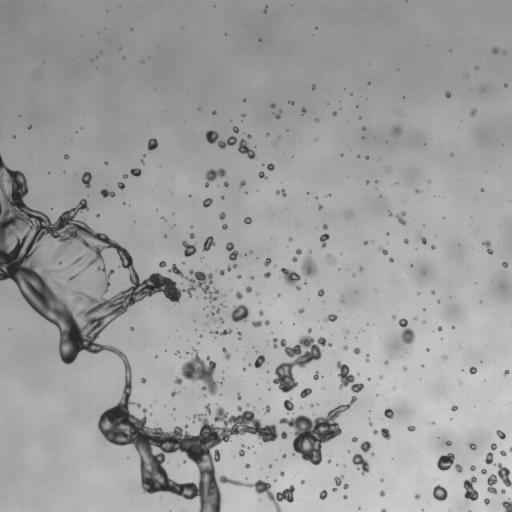droplet: (279, 395, 356, 465), (273, 329, 331, 392), (181, 348, 221, 394), (437, 453, 462, 472), (301, 255, 317, 278), (463, 476, 478, 500), (352, 453, 369, 474), (231, 304, 249, 322), (211, 303, 224, 323), (432, 485, 447, 501), (182, 241, 196, 256), (203, 236, 215, 251), (283, 398, 294, 413), (81, 172, 91, 187), (396, 211, 406, 225), (254, 355, 265, 367), (320, 233, 329, 247), (360, 441, 371, 452), (100, 189, 115, 197), (323, 314, 337, 322), (147, 138, 157, 149), (380, 428, 390, 439), (502, 499, 511, 511), (300, 388, 311, 397), (222, 347, 230, 359), (384, 408, 393, 418), (130, 168, 141, 176), (203, 198, 212, 207), (496, 430, 505, 439), (392, 126, 401, 134), (319, 490, 327, 499), (276, 189, 286, 196), (326, 254, 334, 262), (313, 371, 320, 380), (258, 171, 266, 178), (469, 366, 476, 374), (174, 377, 182, 384), (267, 163, 274, 170), (117, 182, 124, 189), (317, 289, 324, 296), (235, 292, 242, 299), (353, 347, 360, 354), (469, 443, 476, 450), (264, 258, 270, 266), (264, 405, 270, 413), (239, 447, 244, 456), (492, 47, 499, 53), (470, 109, 476, 116), (345, 211, 352, 217), (219, 212, 225, 219), (244, 217, 251, 223), (420, 237, 426, 244), (159, 261, 166, 267), (171, 390, 178, 396), (407, 426, 415, 431), (264, 272, 270, 278), (500, 450, 506, 456), (275, 111, 280, 118), (233, 126, 238, 133), (445, 91, 450, 97), (240, 180, 245, 186), (246, 286, 251, 292), (298, 308, 304, 313), (451, 406, 457, 411), (351, 437, 357, 442), (445, 440, 451, 445), (484, 498, 489, 504), (301, 108, 306, 113), (222, 224, 227, 229), (322, 224, 327, 229), (189, 233, 194, 238), (296, 249, 301, 254), (292, 256, 297, 261), (502, 262, 507, 267), (219, 270, 224, 275), (442, 354, 447, 359), (504, 370, 509, 375), (141, 378, 146, 383), (470, 465, 475, 470), (343, 484, 348, 489), (414, 494, 419, 499), (380, 490, 384, 496), (311, 85, 315, 90), (28, 124, 32, 129), (64, 154, 68, 159), (122, 174, 127, 178), (259, 310, 263, 315), (437, 326, 442, 330), (237, 394, 241, 399), (481, 469, 486, 473), (238, 331, 241, 337), (247, 134, 251, 138), (365, 155, 369, 159), (224, 182, 228, 186), (318, 205, 322, 209), (161, 216, 165, 220), (288, 237, 292, 241), (404, 239, 408, 243), (431, 245, 435, 249), (249, 250, 253, 254), (389, 258, 393, 262), (359, 267, 363, 271), (343, 345, 347, 349), (175, 351, 179, 355), (384, 360, 388, 364), (373, 430, 377, 434), (282, 454, 286, 458), (245, 464, 249, 468), (268, 464, 272, 468), (501, 489, 505, 493), (343, 495, 347, 499), (264, 7, 267, 12), (289, 101, 294, 104), (415, 189, 420, 192), (368, 420, 371, 425), (381, 508, 386, 511), (502, 50, 505, 54), (270, 104, 274, 107), (141, 159, 144, 163), (389, 211, 392, 215), (237, 275, 241, 278), (431, 290, 434, 294), (403, 367, 407, 370), (380, 375, 383, 379), (184, 425, 188, 428), (280, 471, 283, 475), (300, 480, 304, 483), (212, 111, 215, 114), (333, 112, 336, 115), (315, 118, 318, 121), (362, 127, 365, 130), (364, 241, 367, 244), (392, 315, 395, 318), (130, 327, 133, 330), (451, 326, 454, 329), (426, 348, 429, 351), (242, 367, 245, 370), (431, 421, 434, 424), (183, 460, 186, 463), (328, 460, 331, 463), (221, 294, 225, 296), (509, 447, 511, 451), (504, 84, 507, 86), (450, 153, 453, 155), (366, 180, 368, 183), (481, 188, 483, 191), (221, 196, 224, 198), (96, 214, 99, 216), (164, 235, 167, 237), (251, 276, 253, 279), (277, 294, 280, 296), (414, 317, 416, 320), (310, 404, 313, 406), (380, 479, 383, 481), (476, 67, 478, 69), (266, 133, 268, 135), (13, 135, 15, 137), (143, 154, 145, 156), (105, 162, 107, 164), (375, 181, 377, 183), (309, 250, 311, 252), (437, 300, 439, 302), (346, 330, 348, 332), (368, 378, 370, 380), (393, 387, 395, 389), (274, 479, 276, 481)
ligament: (0, 155, 292, 511), (485, 443, 511, 493), (336, 362, 363, 393), (205, 130, 236, 148), (281, 268, 300, 290), (204, 168, 225, 187), (399, 318, 414, 344), (238, 139, 255, 159), (225, 242, 239, 260), (332, 476, 343, 491), (210, 328, 231, 335), (483, 240, 493, 254), (68, 272, 80, 282), (252, 320, 269, 327), (378, 247, 387, 254), (71, 258, 80, 265), (227, 264, 237, 270), (366, 354, 369, 362), (448, 510, 451, 511)
